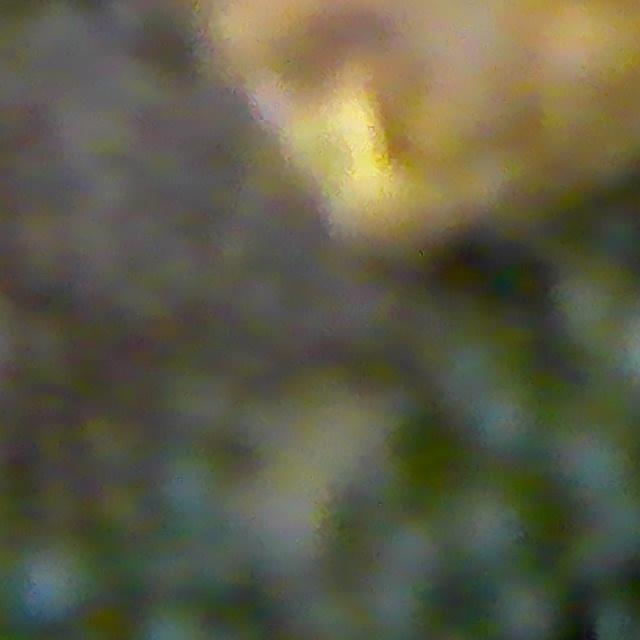SeaGrape: (3, 532, 100, 626), (447, 482, 532, 572), (469, 377, 546, 459), (485, 576, 562, 640)
